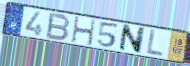4: (24, 11, 44, 37)
5: (96, 22, 120, 48)
B: (44, 12, 72, 42)
H: (71, 15, 97, 47)
L: (145, 28, 164, 58)
N: (117, 23, 146, 55)
